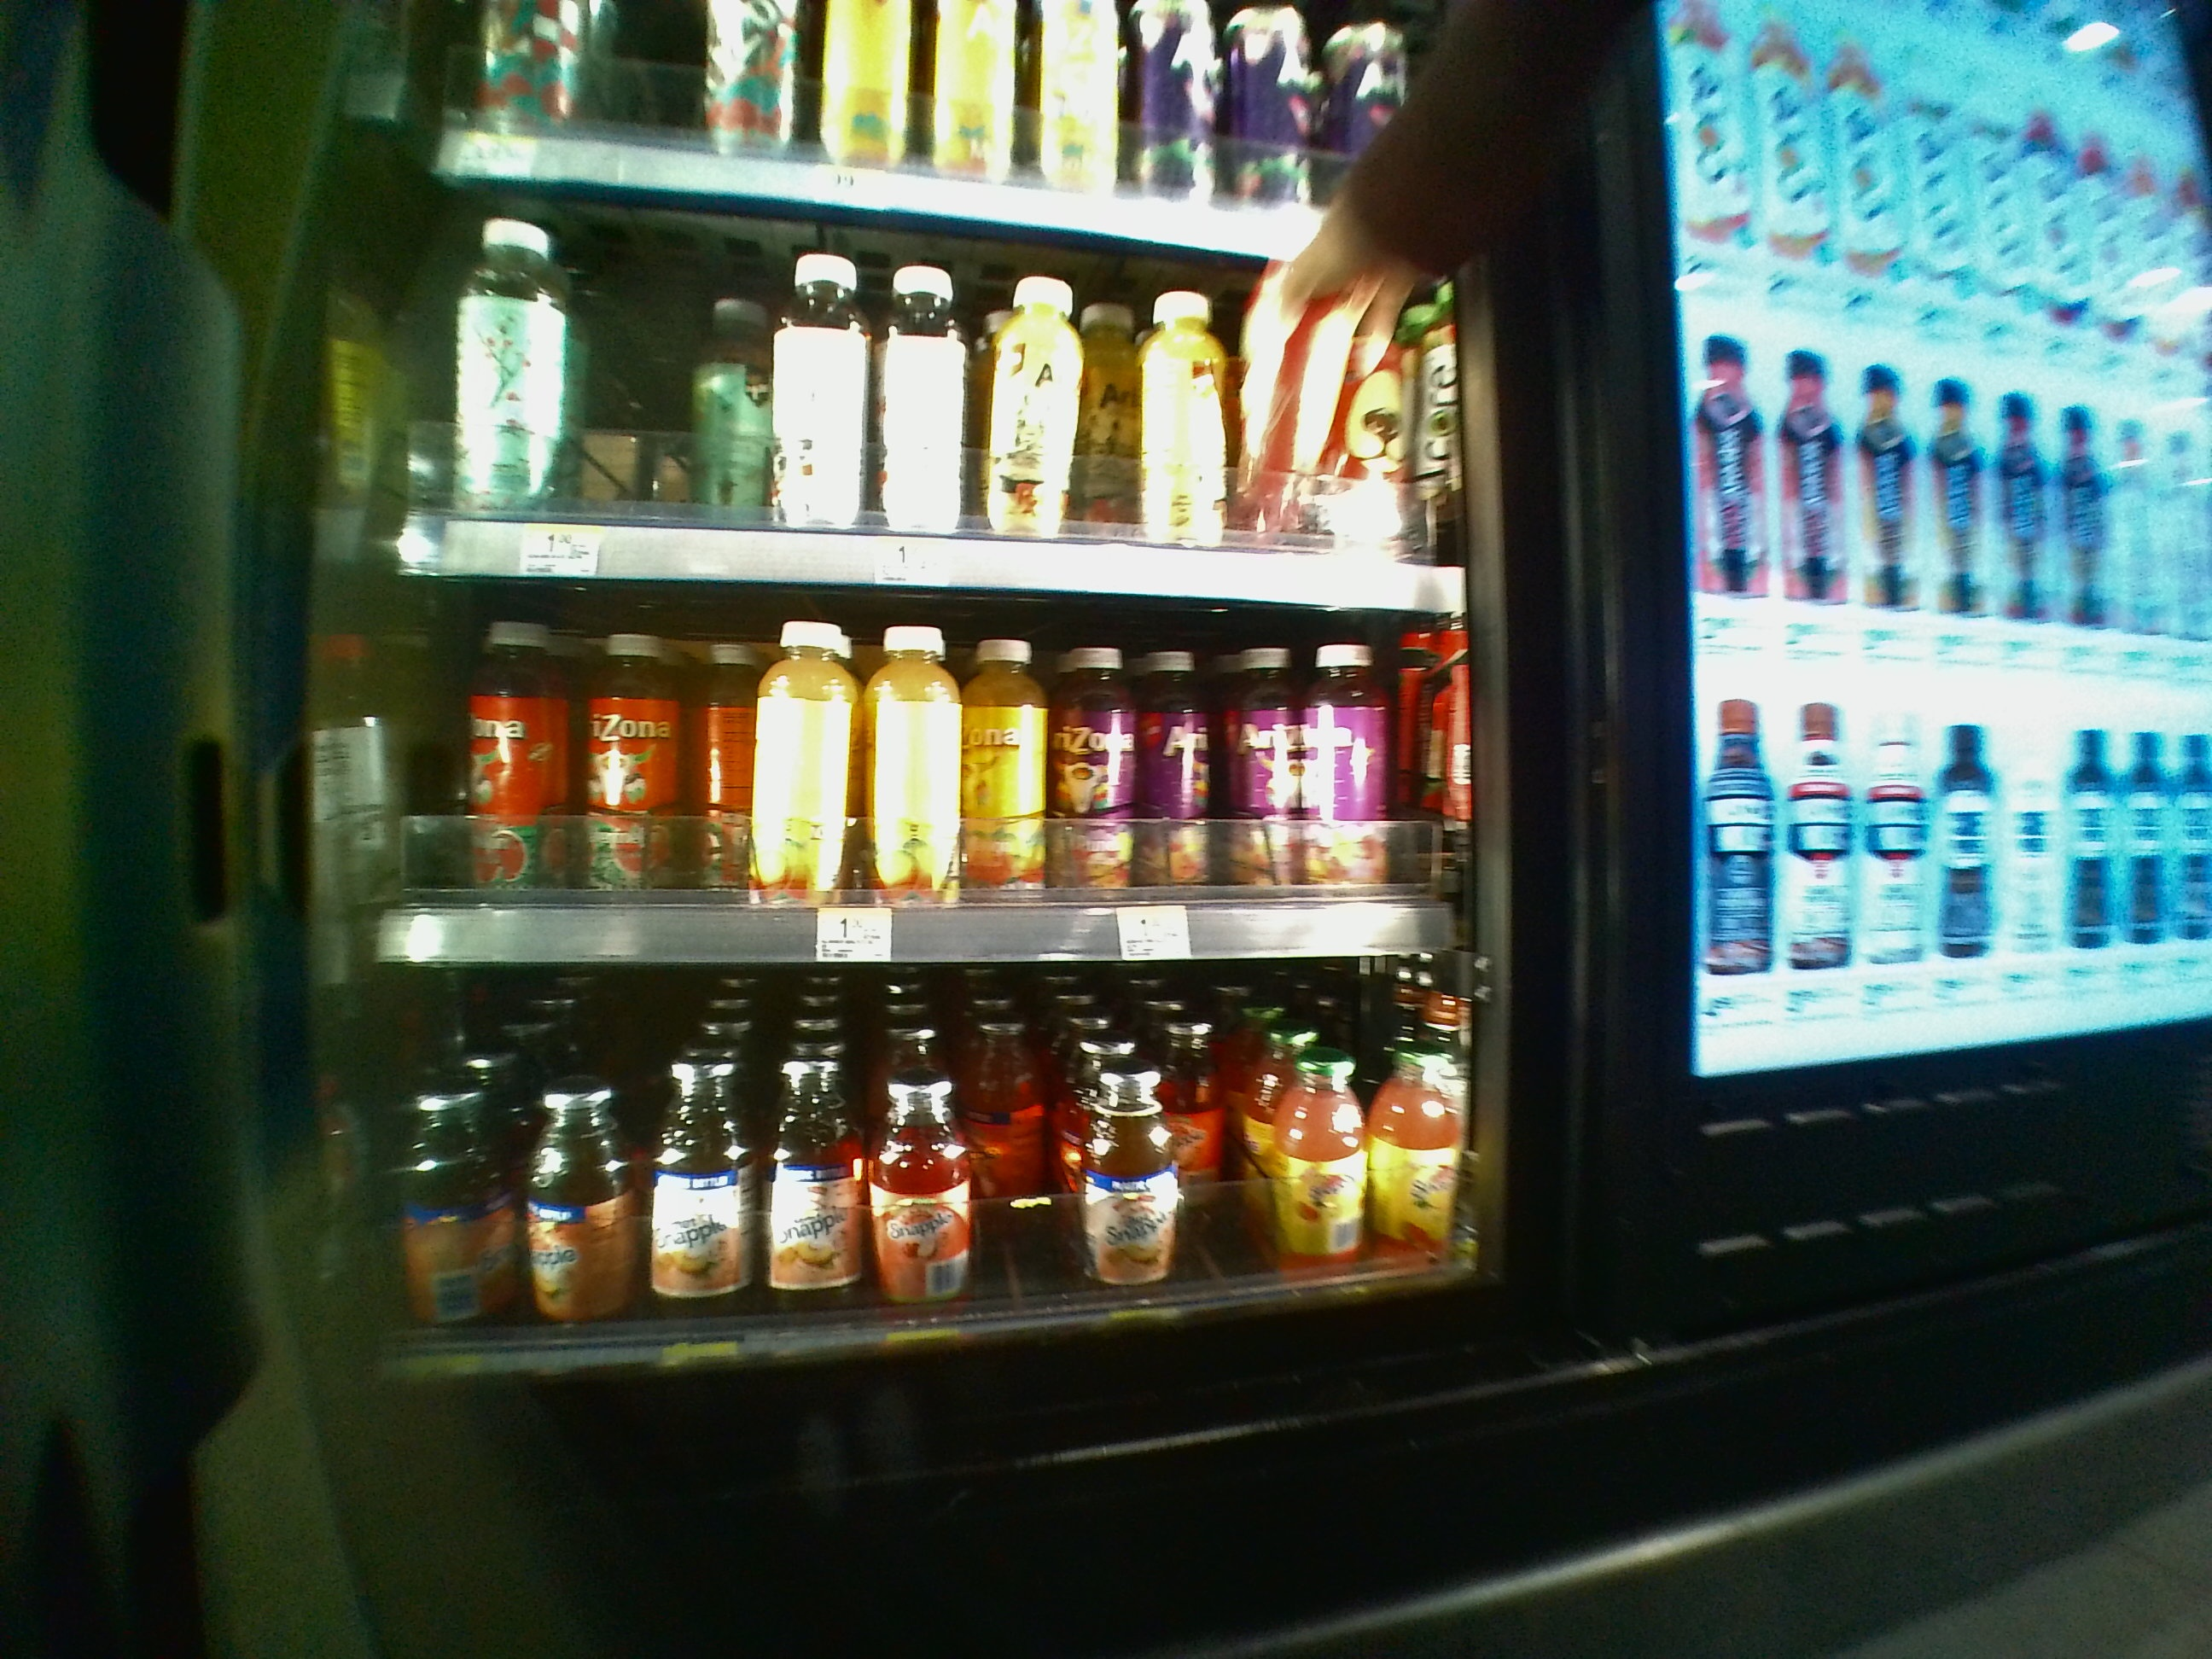shelf: (361, 964, 1475, 1396), (359, 575, 1463, 957)
